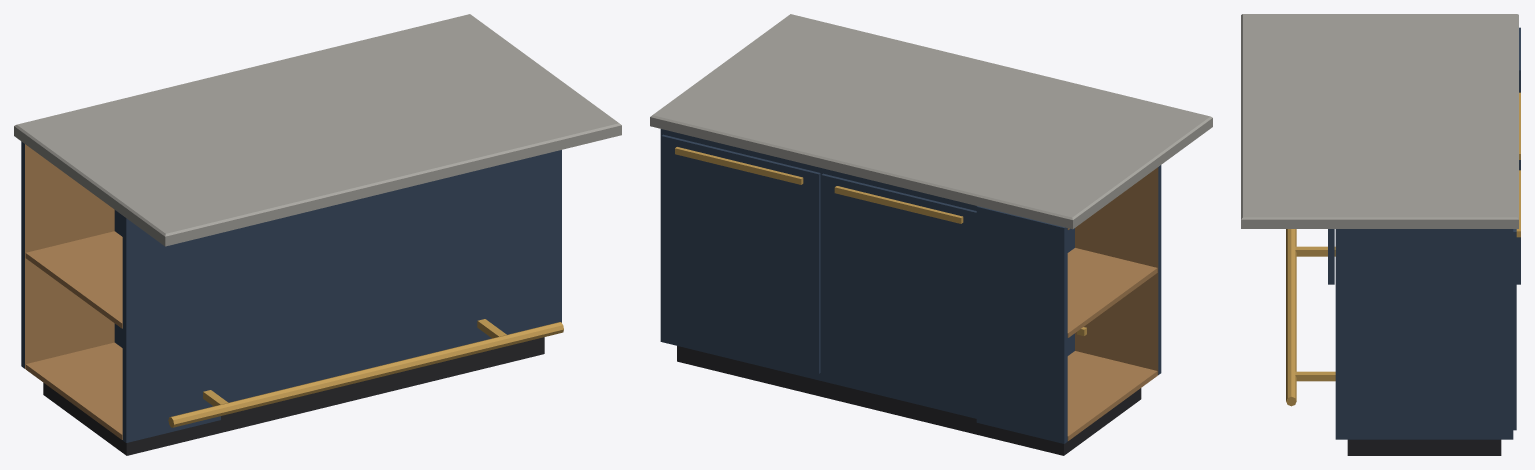
The model's file is FN_Island_Kitchen.glb.
The picture shows the model from 3 angles, left to right: view 1: azimuth 30°, elevation 25°; view 2: azimuth 150°, elevation 25°; view 3: azimuth 270°, elevation 25°; orthographic projection. The views are drawn at different scales.
Parts seen in each view (by area): view 1: FN_Island_Kitchen; view 2: FN_Island_Kitchen; view 3: FN_Island_Kitchen.
Boxes of the visible parts, left/top/right/bottom form: FN_Island_Kitchen: left=14, top=14, right=621, bottom=455; FN_Island_Kitchen: left=650, top=14, right=1212, bottom=455; FN_Island_Kitchen: left=1241, top=14, right=1520, bottom=455.
Bounding box in the file's own units: 1.64 × 0.92 × 0.946.
Materials: 1 (1 with a texture image).
